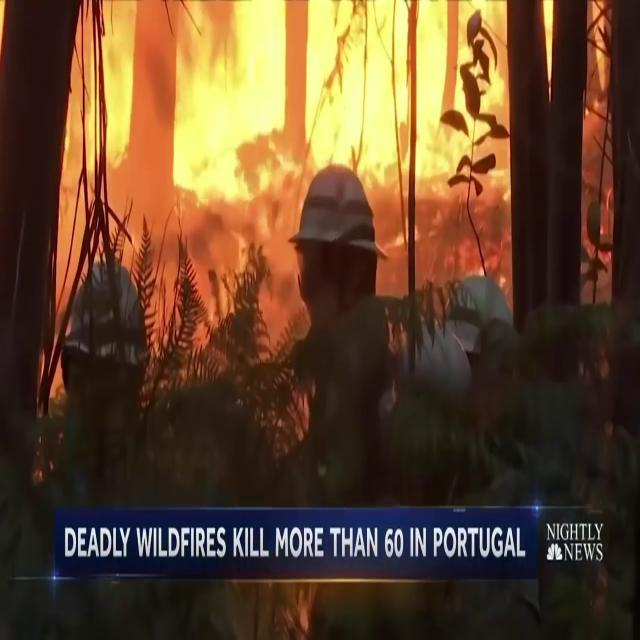Fire: (79, 1, 505, 298)
